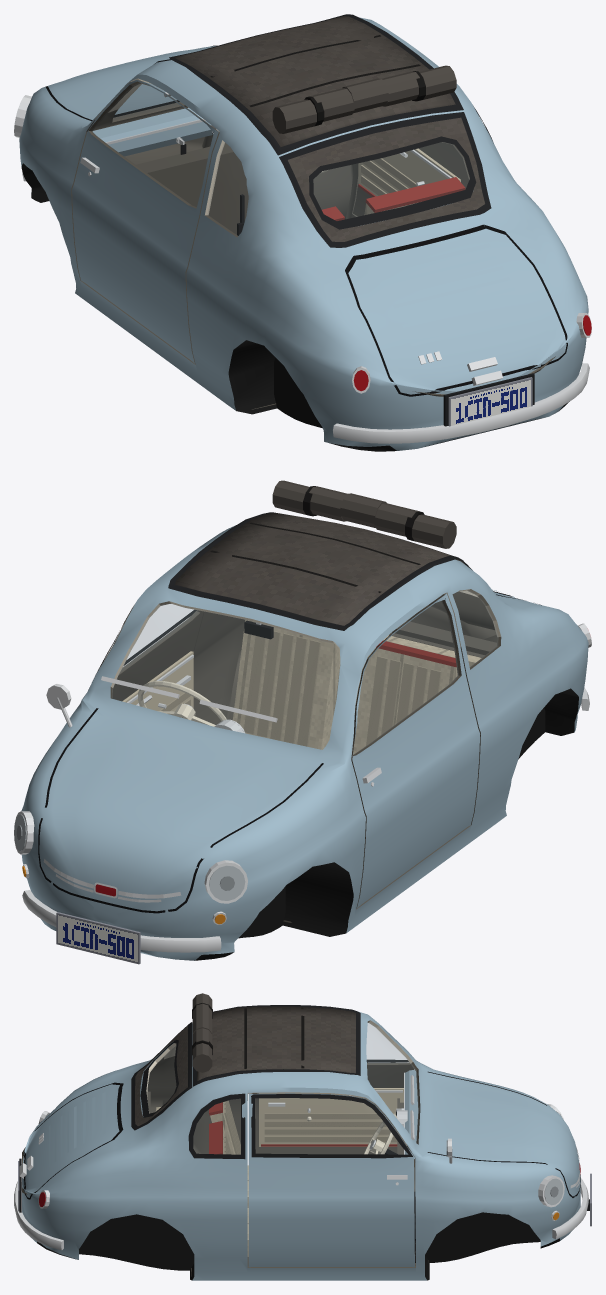
The model's file is nuova.glb.
3 views of the same model, one above another, from view 1: azimuth 30°, elevation 25°; view 2: azimuth 150°, elevation 25°; view 3: azimuth 270°, elevation 25° (orthographic). The views are drawn at different scales.
Visible parts, largest first — view 1: Body, Door_L, Roof_Closed, Glass, Interior, Door_L_Glass, Roof_Open, Door_R; view 2: Body, Glass, Interior, Door_L, Roof_Closed, Door_L_Glass, Roof_Open, Door_R, Lights_Head, SteeringWheel; view 3: Body, Door_R, Roof_Closed, Door_L, Door_R_Glass, Glass, Interior, Roof_Open, SteeringWheel.
Part boxes in pixels (x1=…): Body: x1=14, y1=14, x2=591, y2=451; Door_L: x1=72, y1=80, x2=219, y2=363; Roof_Closed: x1=175, y1=16, x2=455, y2=146; Glass: x1=150, y1=84, x2=468, y2=235; Interior: x1=92, y1=107, x2=465, y2=235; Door_L_Glass: x1=92, y1=83, x2=212, y2=206; Roof_Open: x1=272, y1=65, x2=456, y2=133; Door_R: x1=353, y1=142, x2=468, y2=216; Body: x1=14, y1=512, x2=591, y2=964; Glass: x1=112, y1=591, x2=497, y2=749; Interior: x1=182, y1=620, x2=496, y2=754; Door_L: x1=351, y1=593, x2=480, y2=908; Roof_Closed: x1=175, y1=512, x2=452, y2=625; Door_L_Glass: x1=353, y1=601, x2=458, y2=754; Roof_Open: x1=272, y1=480, x2=456, y2=548; Door_R: x1=88, y1=604, x2=203, y2=711; Lights_Head: x1=14, y1=814, x2=245, y2=900; SteeringWheel: x1=138, y1=681, x2=226, y2=726; Body: x1=14, y1=1005, x2=591, y2=1280; Door_R: x1=248, y1=1093, x2=414, y2=1267; Roof_Closed: x1=197, y1=1006, x2=355, y2=1080; Door_L: x1=252, y1=1059, x2=413, y2=1154; Door_R_Glass: x1=255, y1=1098, x2=406, y2=1153; Glass: x1=147, y1=1023, x2=418, y2=1153; Interior: x1=147, y1=1069, x2=418, y2=1265; Roof_Open: x1=192, y1=993, x2=212, y2=1072; SteeringWheel: x1=364, y1=1113, x2=397, y2=1154.
Bounding box in the file's own units: 1.32 × 1.26 × 3.07.
Materials: 27 (6 with a texture image).
